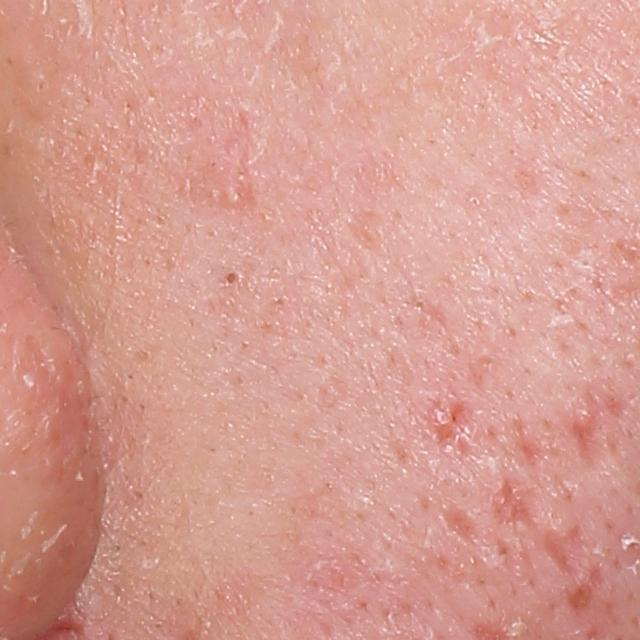atrophic_scar: (489, 476, 542, 533), (437, 503, 487, 554), (563, 565, 609, 614), (542, 529, 582, 577)
comedo: (223, 268, 240, 288)
